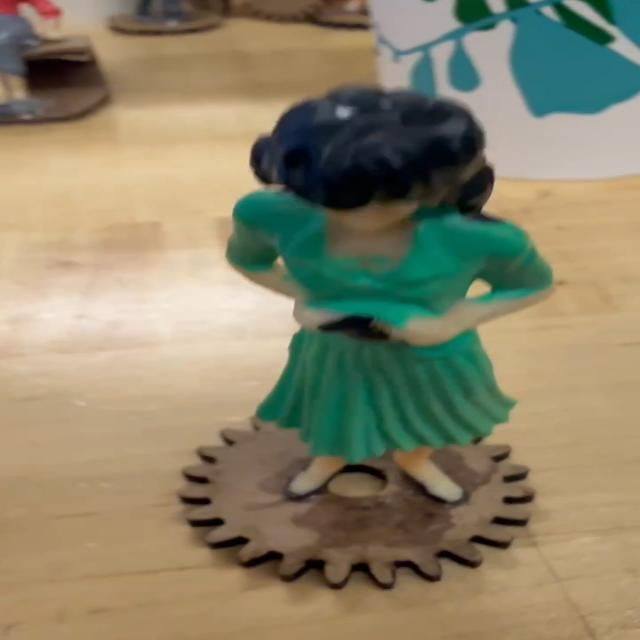Authorized: (146, 59, 573, 566)
